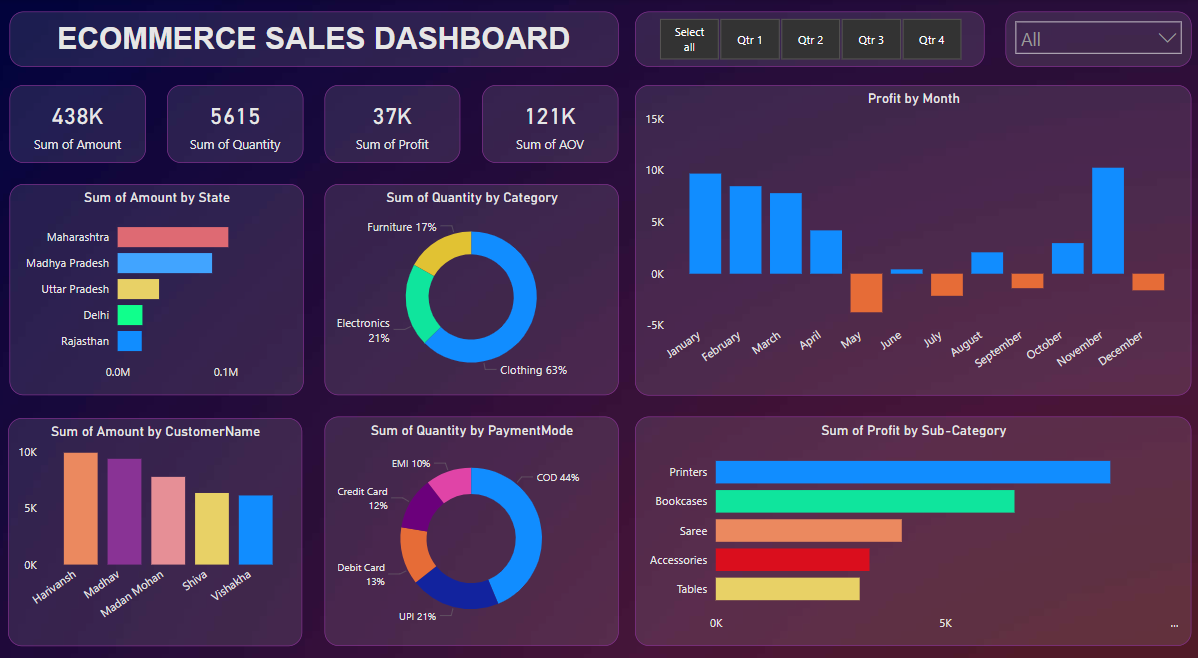

What the dashboard file says about the page in this screenshot:
{"tool":"powerbi","page":{"name":"Page 1","canvas":[1280,720],"ordinal":0},"visuals":[{"type":"textbox","box":[14.3,14.3,645.8,58.9],"z":0},{"type":"columnChart","title":"Profit by Month","fields":{"Y":["Details.Profit"],"Category":["Orders.Order Date.Variation.Date Hierarchy.Month"]},"box":[677.6,92.3,590.1,329.3],"z":1000},{"type":"barChart","fields":{"Category":["Details.Sub-Category"],"Y":["Details.Profit"]},"box":[677.6,443.8,590.1,243.4],"z":2000},{"type":"donutChart","fields":{"Category":["Details.Category"],"Y":["Details.Quantity"]},"box":[348.3,197.2,311.8,224.3],"z":3000},{"type":"donutChart","fields":{"Y":["Details.Quantity"],"Category":["Details.PaymentMode"]},"box":[348.3,443.8,311.8,243.4],"z":4000},{"type":"card","fields":{"Values":["Details.Amount"]},"box":[14.3,92.3,144.7,82.7],"z":5000},{"type":"card","fields":{"Values":["Details.Quantity"]},"box":[181.3,92.3,144.7,82.7],"z":6000},{"type":"card","fields":{"Values":["Details.Profit"]},"box":[348.3,92.3,144,82.7],"z":7000},{"type":"card","fields":{"Values":["Details.AOV"]},"box":[515.4,92.3,144.7,82.7],"z":8000},{"type":"clusteredBarChart","fields":{"Category":["Orders.State"],"Y":["Details.Amount"]},"box":[14.3,197.2,311.8,224.3],"z":9000},{"type":"columnChart","fields":{"Category":["Orders.CustomerName"],"Y":["Details.Amount"]},"box":[12.7,445.4,311.8,241.8],"z":10000},{"type":"slicer","fields":{"Values":["Orders.Order Date.Variation.Date Hierarchy.Quarter"]},"box":[677.6,14.3,370.6,58.9],"z":11000},{"type":"slicer","fields":{"Values":["Orders.State"]},"box":[1070.5,14.3,197.2,58.9],"z":12000}]}

Visuals, with their boxes in screenshot pixels (x1, y1, x2, y2), scaled from the page's 1280x720 canvas onto the 1198x658 screenshot:
textbox: l=13, t=13, r=618, b=67
"Profit by Month" columnChart: l=634, t=84, r=1186, b=385
barChart - Details.Sub-Category x Details.Profit: l=634, t=406, r=1186, b=628
donutChart - Details.Category x Details.Quantity: l=326, t=180, r=618, b=385
donutChart - Details.Quantity x Details.PaymentMode: l=326, t=406, r=618, b=628
card - Details.Amount: l=13, t=84, r=149, b=160
card - Details.Quantity: l=170, t=84, r=305, b=160
card - Details.Profit: l=326, t=84, r=461, b=160
card - Details.AOV: l=482, t=84, r=618, b=160
clusteredBarChart - Orders.State x Details.Amount: l=13, t=180, r=305, b=385
columnChart - Orders.CustomerName x Details.Amount: l=12, t=407, r=304, b=628
slicer - Orders.Order Date.Variation.Date Hierarchy.Quarter: l=634, t=13, r=981, b=67
slicer - Orders.State: l=1002, t=13, r=1186, b=67
